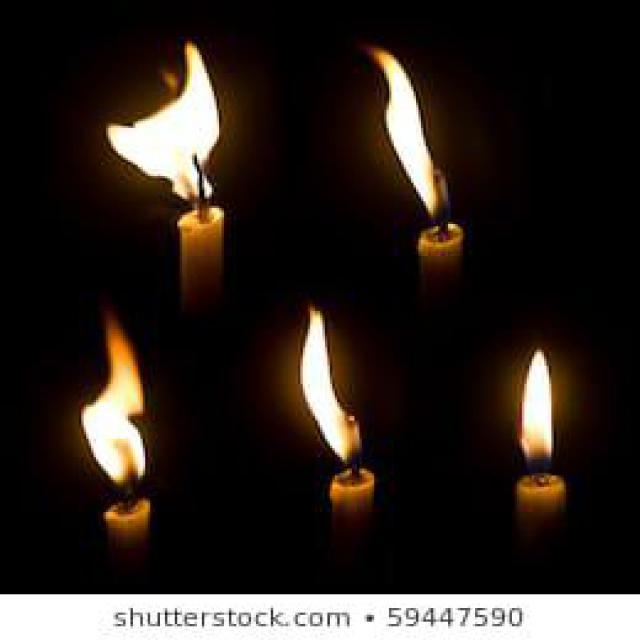Fire: (102, 41, 223, 204), (358, 46, 449, 218), (78, 312, 148, 493), (298, 306, 362, 466), (518, 348, 555, 476)
